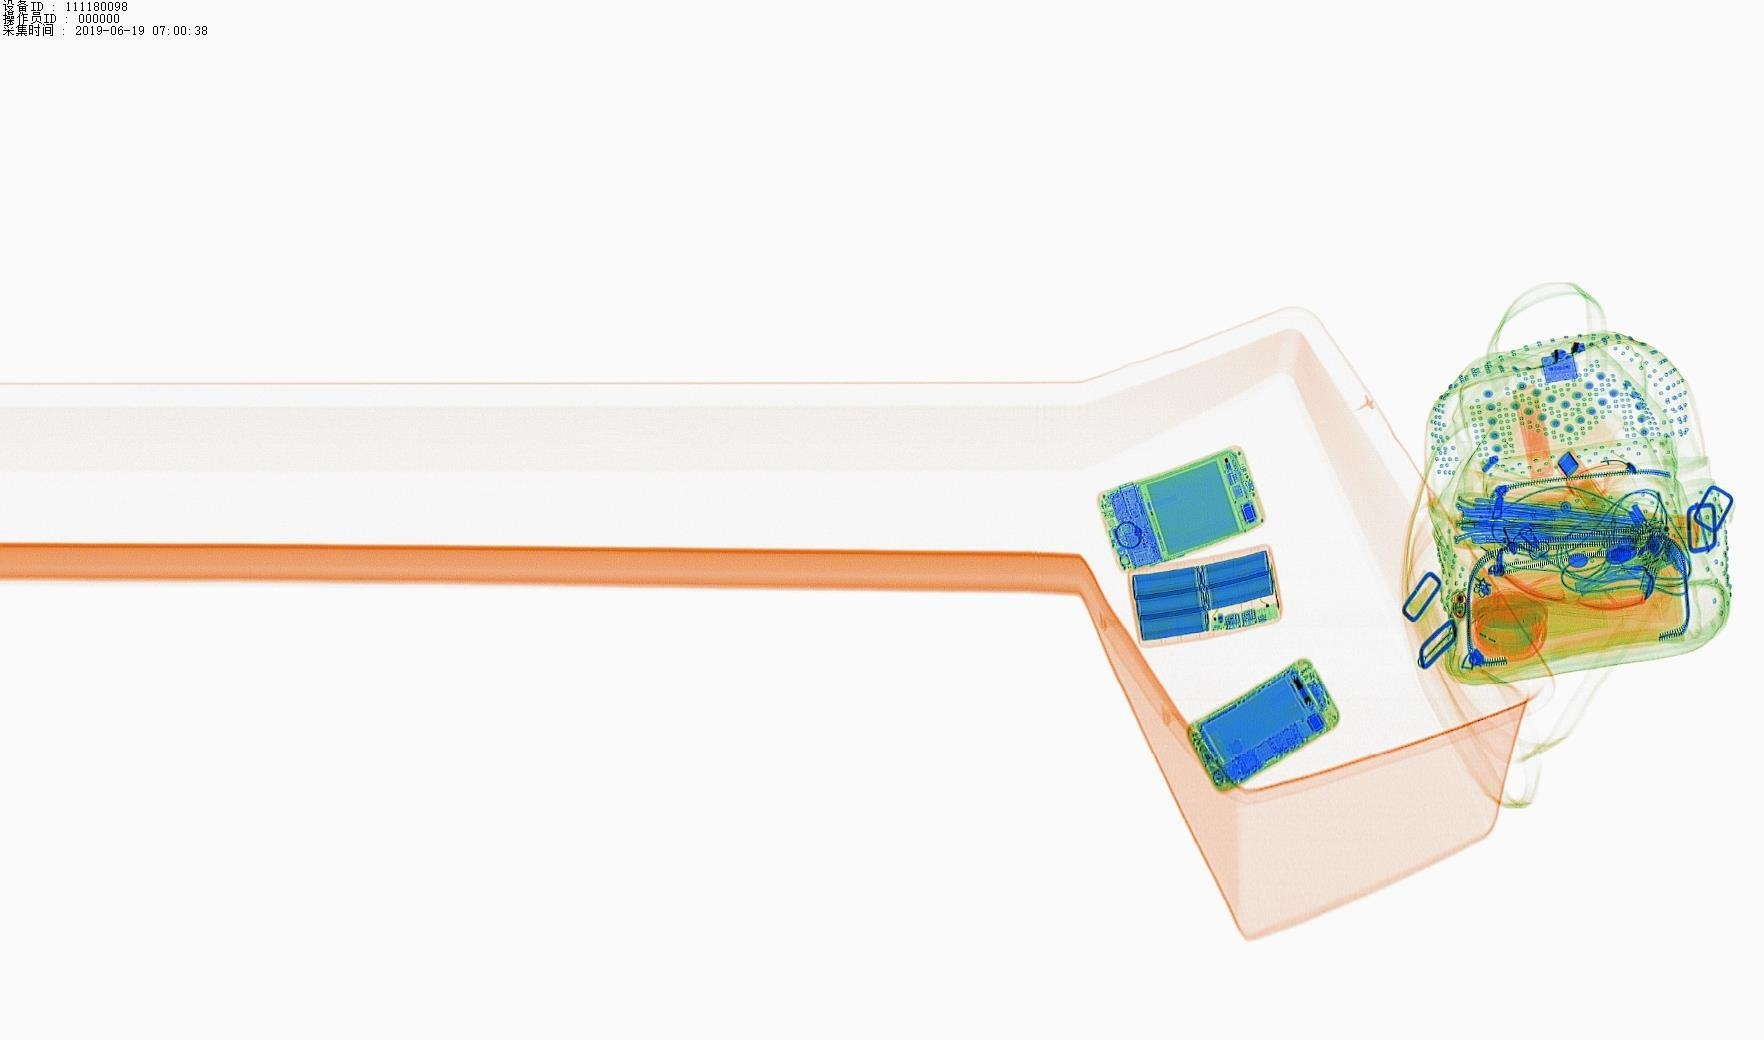NonmetallicFire: (1450, 581, 1482, 633)
